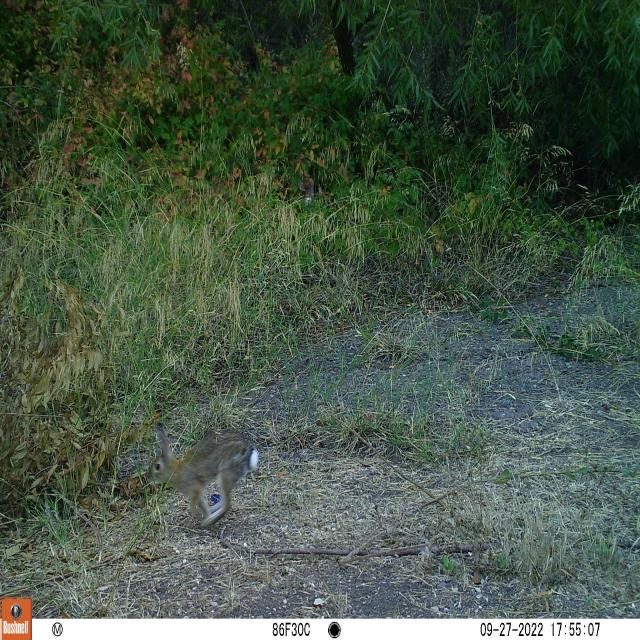Rabbit: (143, 415, 263, 532)
